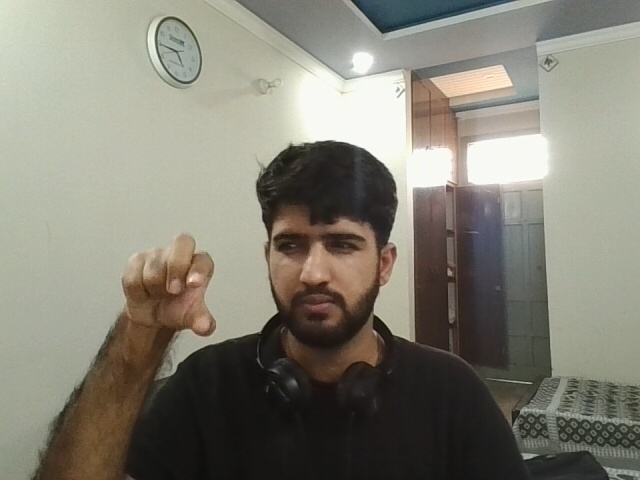No: (107, 223, 235, 339)
